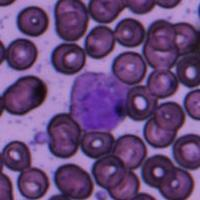E: (69, 69, 129, 133)
